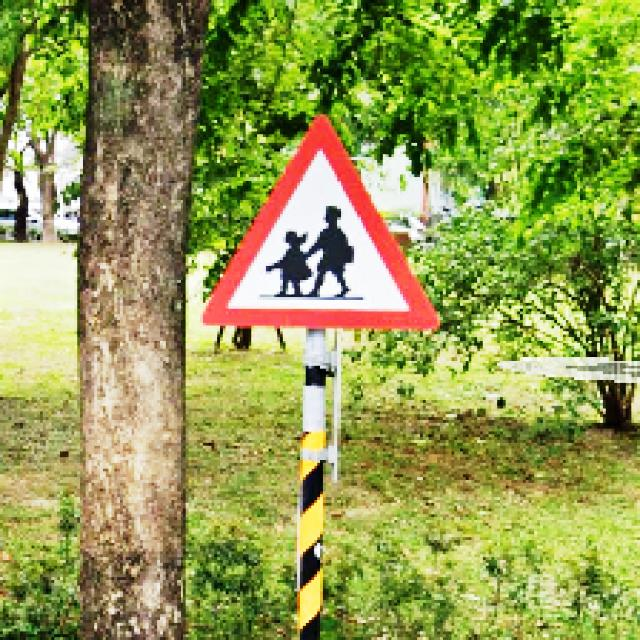childrencross: (202, 114, 439, 328)
